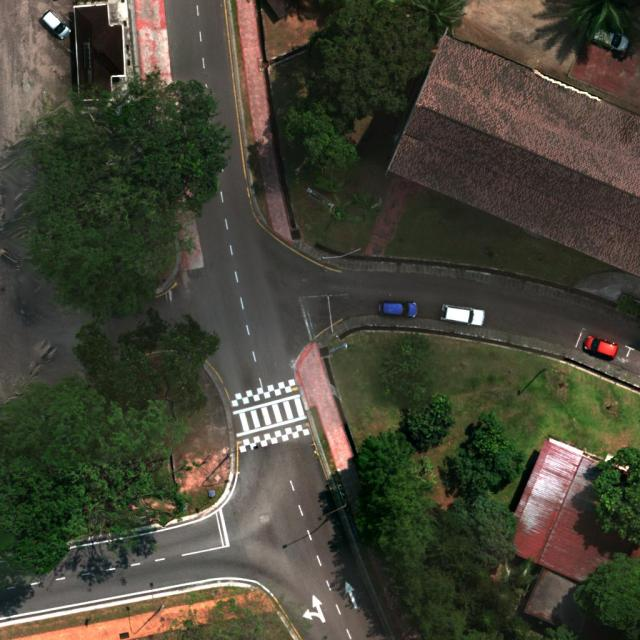Tree: (0, 371, 194, 577), (11, 66, 232, 218), (354, 426, 505, 640), (27, 174, 198, 322), (304, 1, 434, 134), (72, 304, 223, 416), (453, 410, 528, 496), (573, 550, 640, 640), (280, 105, 362, 172), (450, 493, 518, 573), (593, 446, 640, 546), (557, 0, 640, 50), (378, 332, 434, 402), (404, 390, 457, 450), (410, 0, 468, 39), (500, 554, 539, 598), (324, 193, 361, 235), (483, 580, 518, 616), (350, 189, 383, 221), (425, 540, 457, 568), (472, 606, 502, 632), (505, 613, 533, 640), (314, 170, 346, 192), (541, 622, 579, 640), (455, 593, 472, 607)
